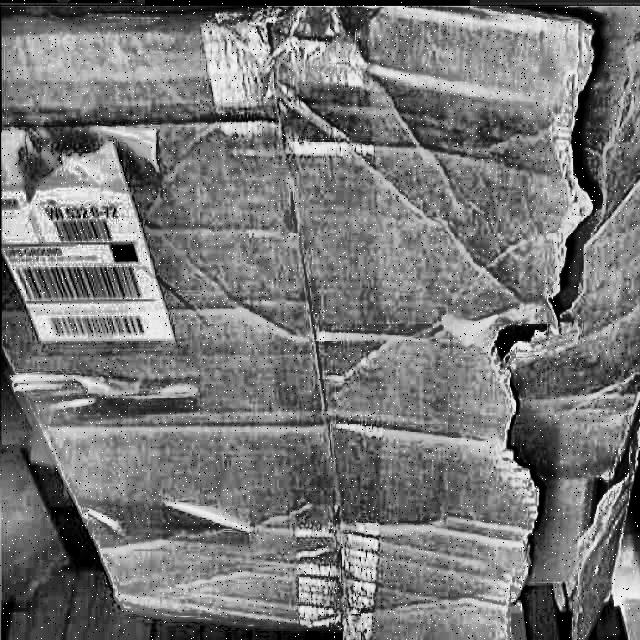box: (1, 1, 640, 640)
hole: (478, 0, 612, 630)
